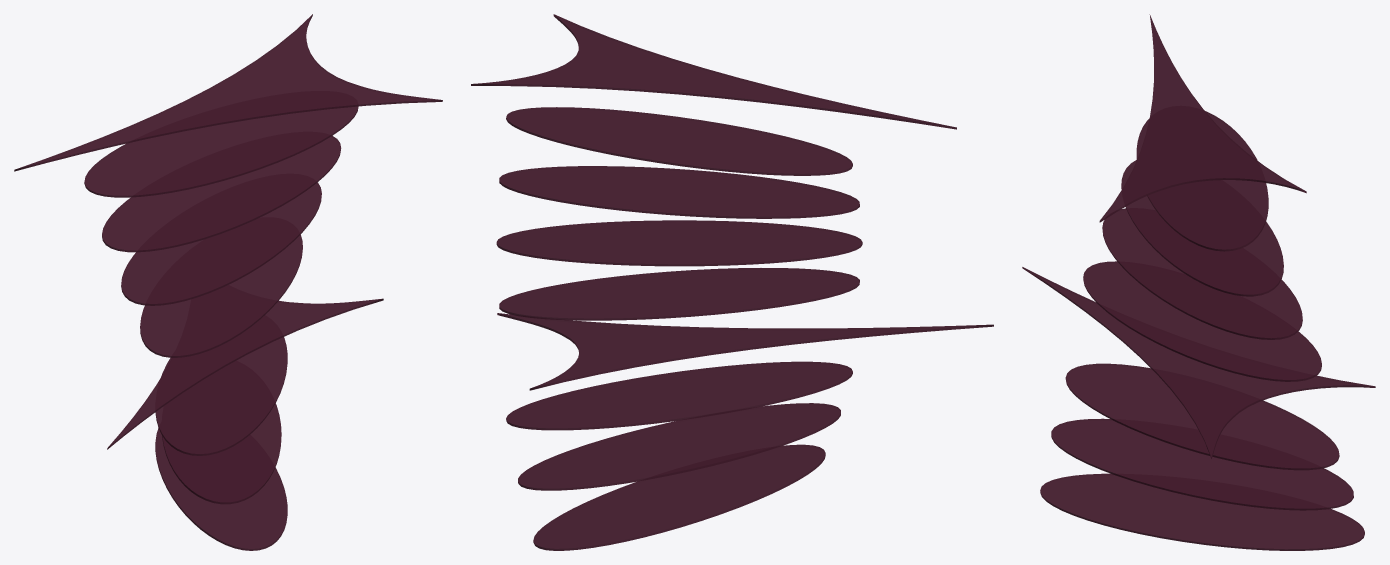
File: spiral.glb
The picture shows the model from 3 angles, left to right: view 1: azimuth 30°, elevation 25°; view 2: azimuth 150°, elevation 25°; view 3: azimuth 270°, elevation 25°; orthographic projection. The views are drawn at different scales.
Parts seen in each view (by area): view 1: Application, Software, Computation_Protocols, Model, Compute, Data, Hardware, Natual_Resources, Server_Network; view 2: Server_Network, Compute, Application, Computation_Protocols, Model, Data, Natual_Resources, Software, Hardware; view 3: Natual_Resources, Server_Network, Compute, Software, Data, Model, Hardware, Application, Computation_Protocols.
Part boxes in pixels (x1,y1,x2,y2): Application: (84, 106, 358, 197); Software: (14, 14, 442, 171); Computation_Protocols: (102, 136, 341, 252); Model: (121, 182, 321, 305); Compute: (155, 337, 287, 455); Data: (140, 234, 302, 357); Hardware: (107, 298, 383, 449); Natual_Resources: (155, 428, 287, 550); Server_Network: (162, 403, 281, 504); Server_Network: (518, 403, 840, 490); Compute: (506, 361, 852, 430); Application: (506, 107, 852, 175); Computation_Protocols: (499, 166, 859, 218); Model: (496, 220, 862, 266); Data: (499, 268, 859, 320); Natual_Resources: (533, 444, 825, 550); Software: (471, 14, 956, 129); Hardware: (497, 313, 993, 390); Natual_Resources: (1040, 473, 1364, 550); Server_Network: (1051, 418, 1353, 510); Compute: (1065, 363, 1339, 470); Software: (1099, 14, 1306, 222); Data: (1083, 261, 1321, 381); Model: (1102, 208, 1302, 339); Hardware: (1022, 267, 1375, 458); Application: (1136, 111, 1268, 251); Computation_Protocols: (1121, 160, 1283, 296).
Bounding box in the file's own units: 0.0884 × 0.0832 × 0.0672.
